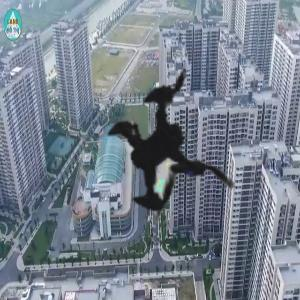drone: (11, 8, 291, 288)
